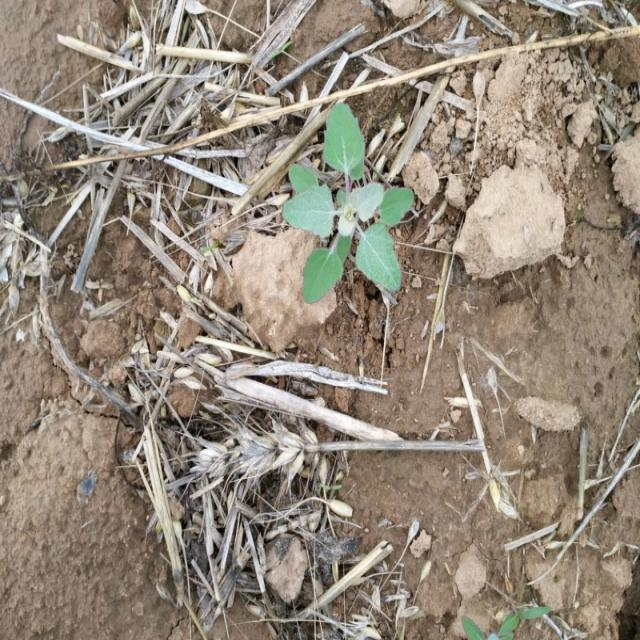goosefoots: (271, 94, 446, 310)
